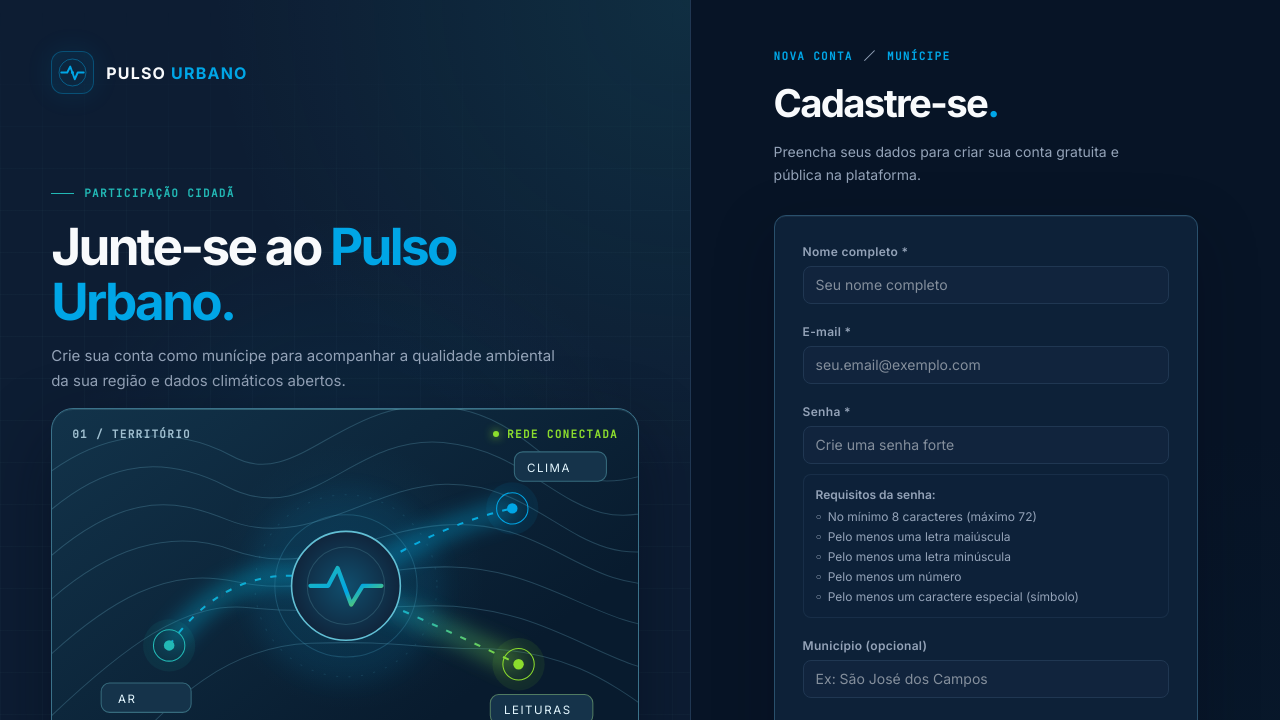
Test: Tela de Cadastro do Munícipe (Cadastro.tsx) › bloqueia submissão no cliente se faltar aceite de privacidade ou campos obrigatórios
The width and height of the screenshot is (1280, 720).
In the field labelled "Nome completo *": coordinates (986, 285) x1=803 y1=266 x2=1169 y2=304, type "Maria da Silva"
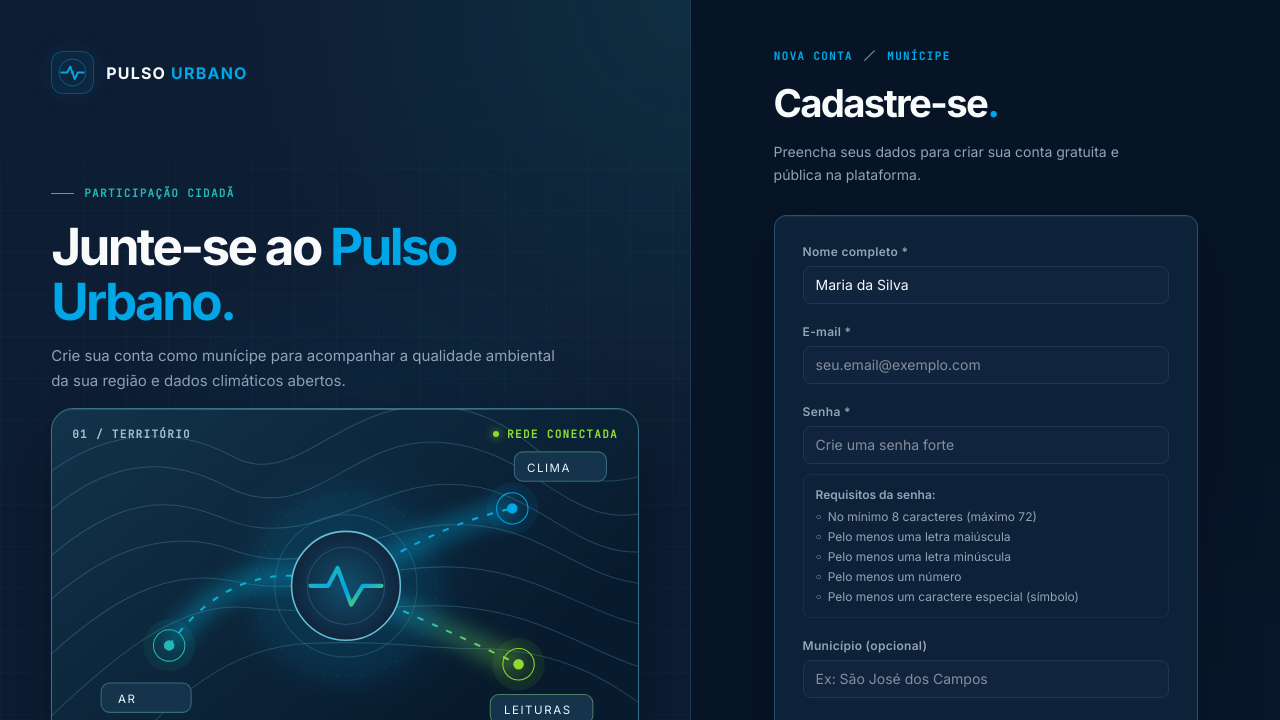
In the field labelled "E-mail *": coordinates (986, 365) x1=803 y1=346 x2=1169 y2=384, type "maria.silva@exemplo.com"
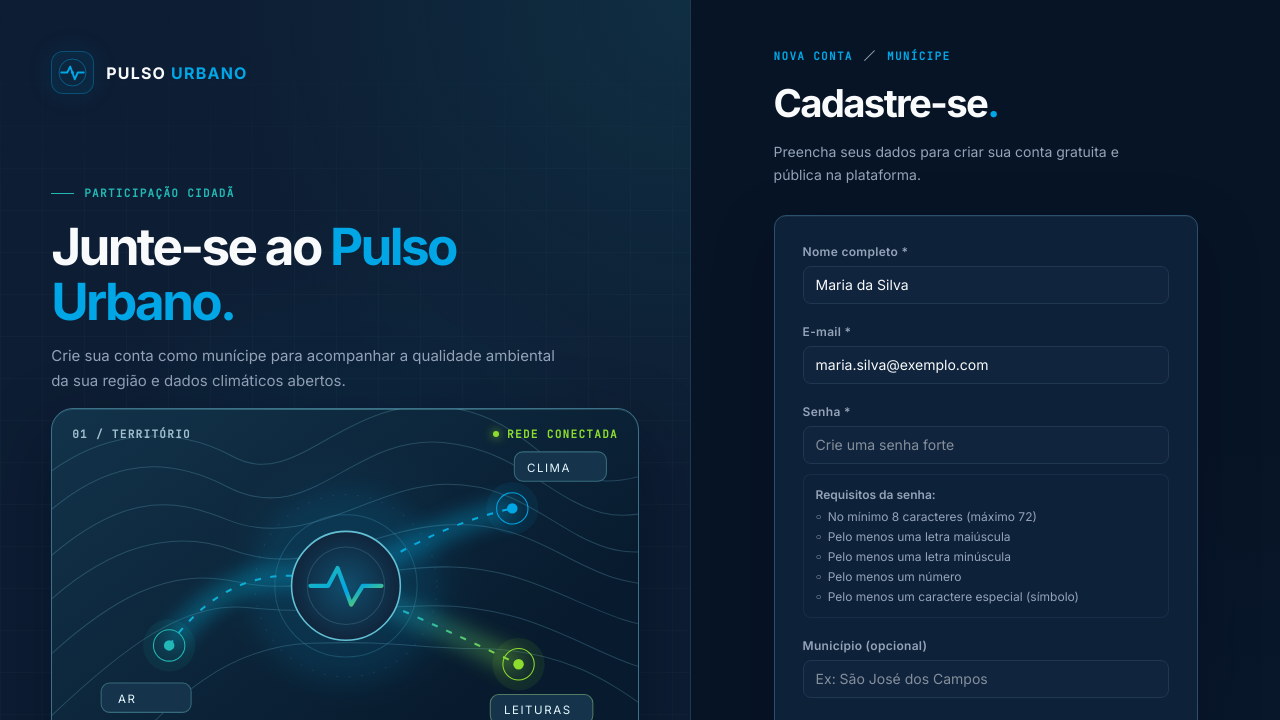
In the password field labelled "Senha *": coordinates (986, 445) x1=803 y1=426 x2=1169 y2=464, type "SenhaForte@2026"
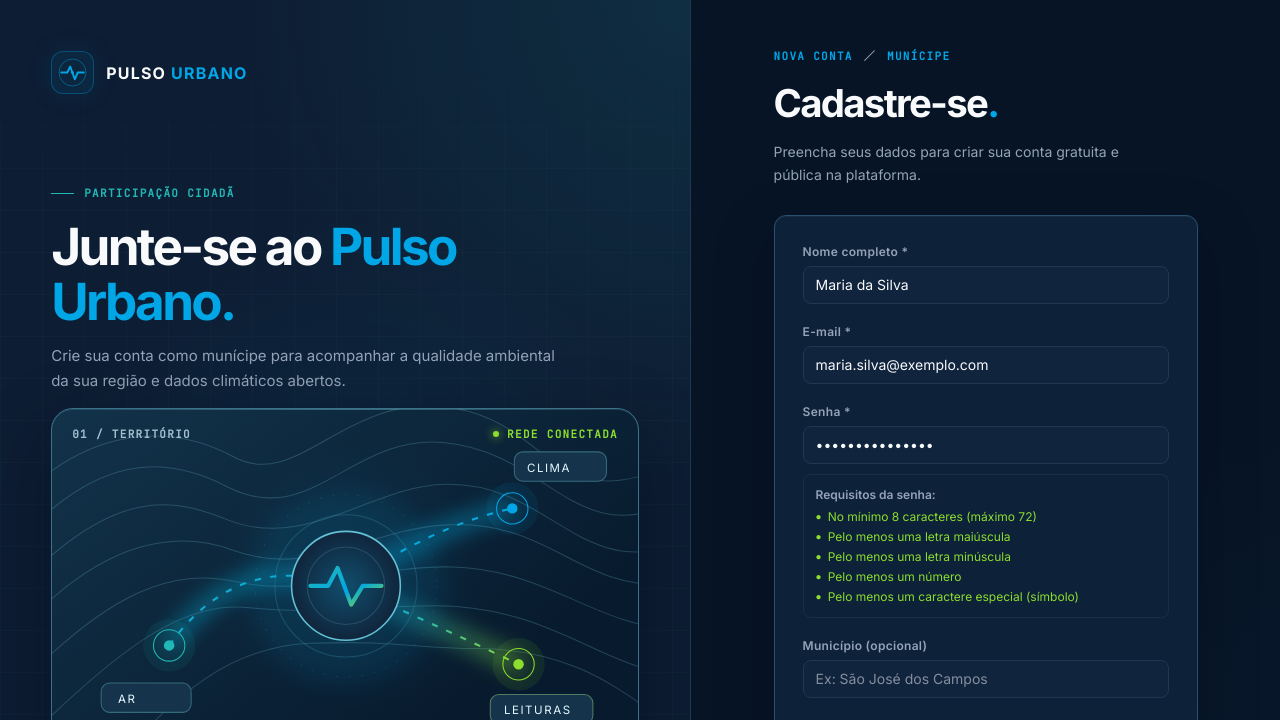
In the field labelled "Município (opcional)": coordinates (986, 679) x1=803 y1=660 x2=1169 y2=698, type "São José dos Campos"
(page scrolled)
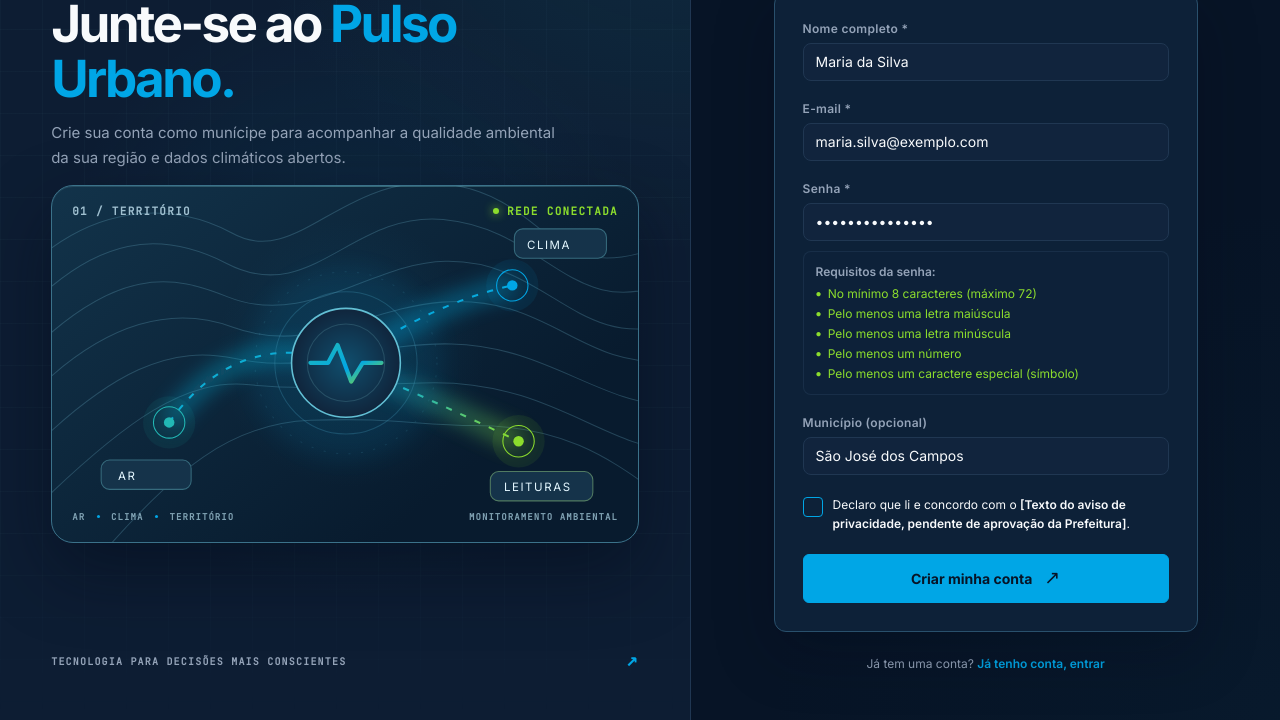
Click the button "Criar minha conta ↗": coordinates (986, 578) x1=803 y1=554 x2=1169 y2=603
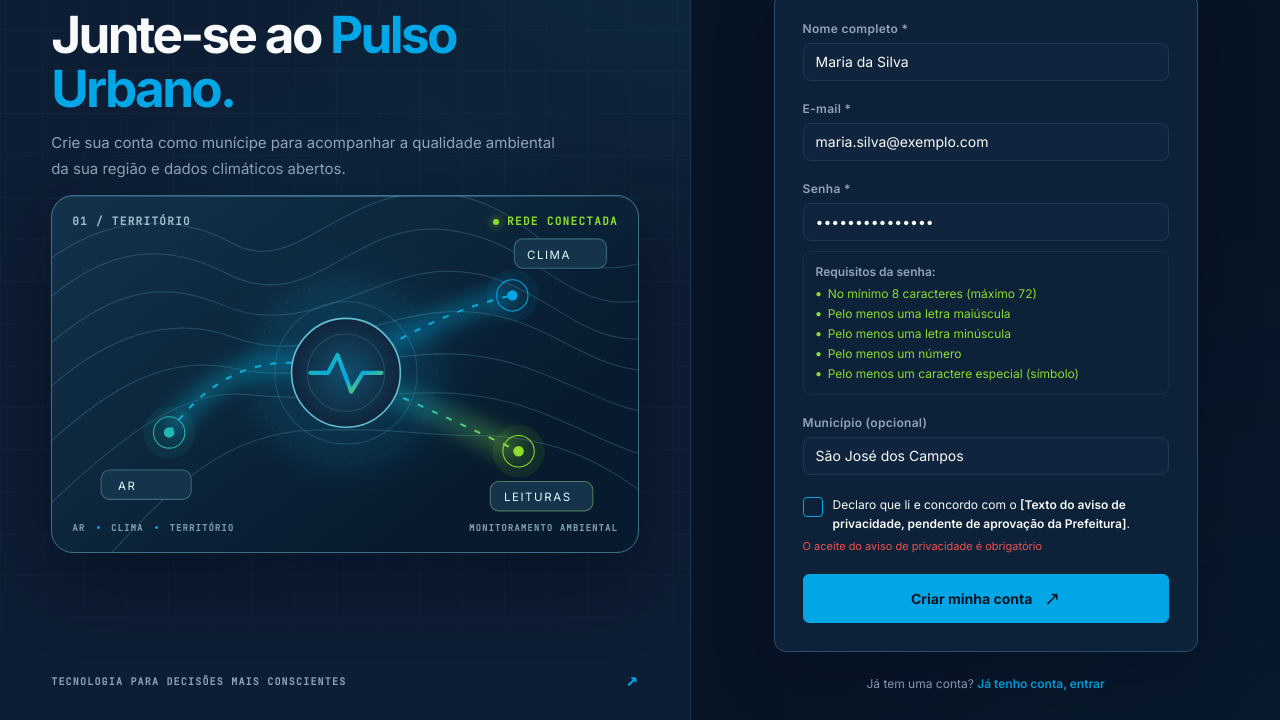
Result: the text "O aceite do aviso de privacidade é obrigatório" is shown at x1=803 y1=539 x2=1042 y2=553
